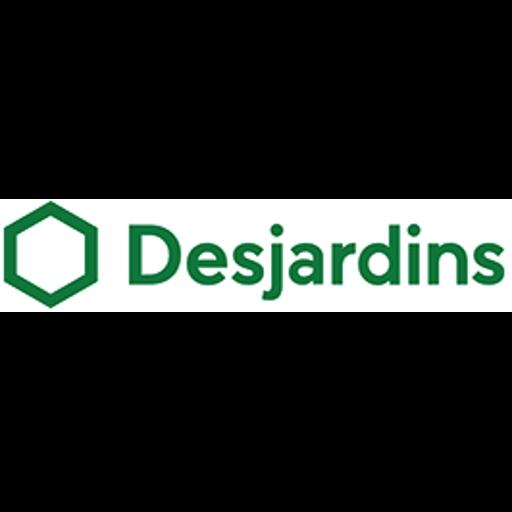Desjardins: (0, 199, 512, 312)
